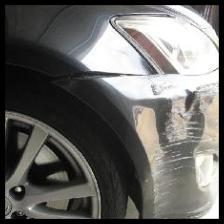bumper_dent: (142, 80, 215, 203)
